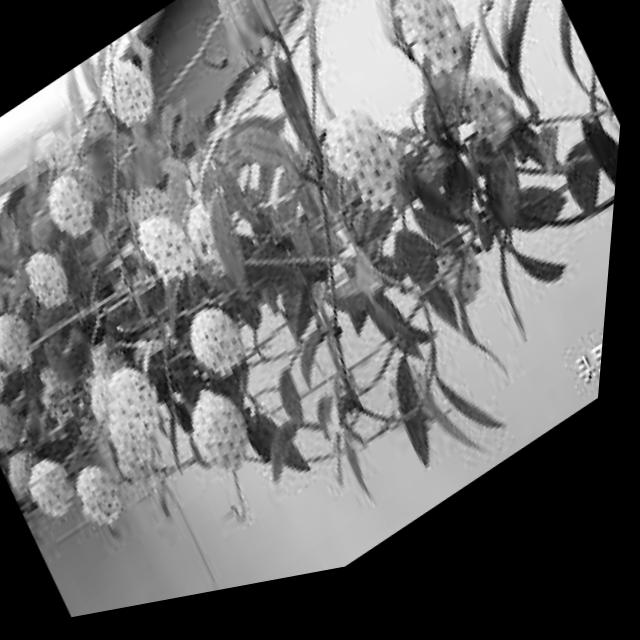Flower: (292, 81, 435, 257), (79, 343, 185, 473), (120, 180, 223, 313), (187, 380, 285, 506), (419, 214, 512, 340), (440, 57, 534, 178), (79, 42, 171, 150), (181, 295, 267, 404), (73, 453, 155, 560), (21, 96, 101, 202), (177, 197, 253, 307), (32, 157, 110, 262), (15, 229, 91, 334), (25, 441, 97, 535), (0, 292, 57, 386), (6, 432, 64, 515), (0, 378, 45, 458)
